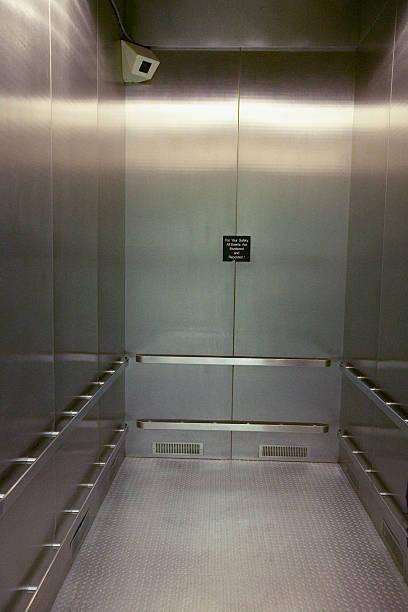camera: (107, 30, 172, 98)
